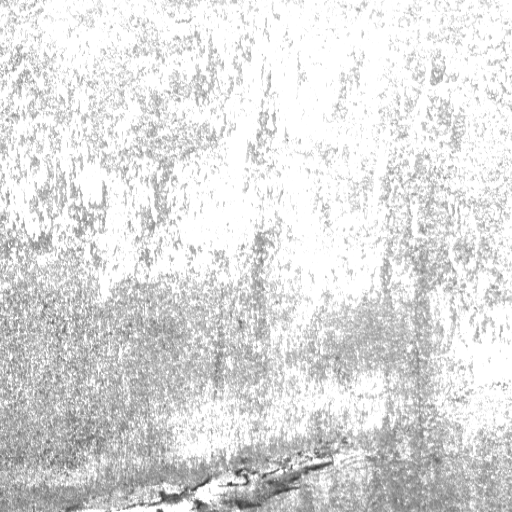hengxiangliewen: (60, 434, 353, 512)
